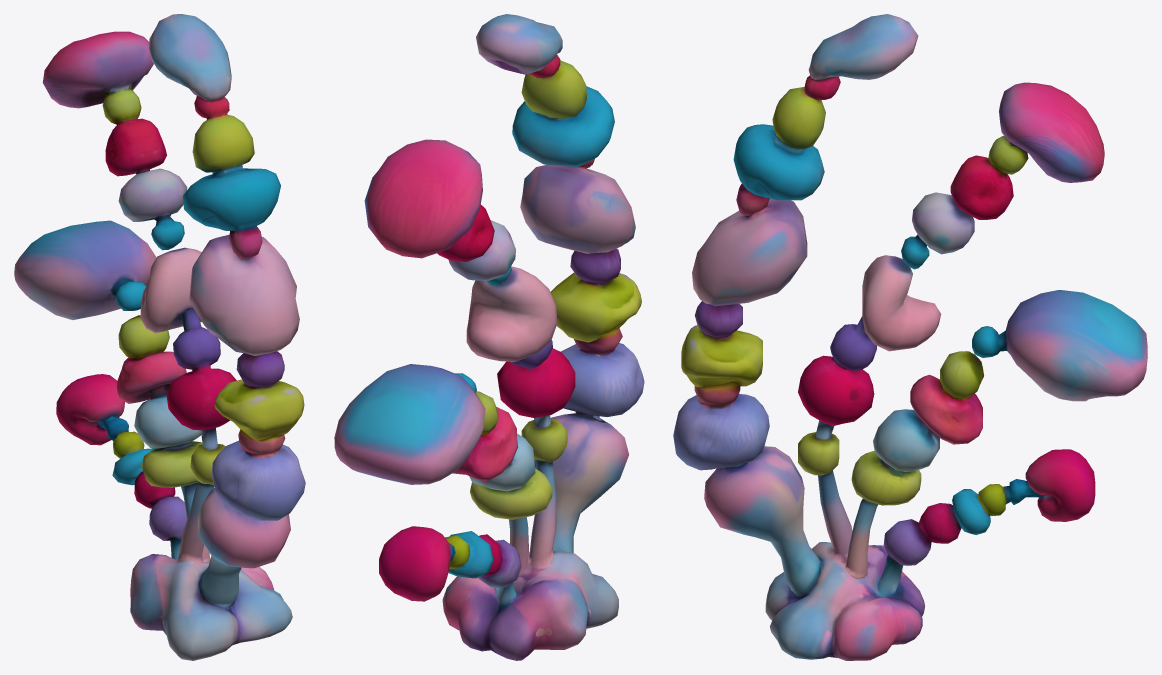
3 views of the same model, side by side, from view 1: azimuth 30°, elevation 25°; view 2: azimuth 150°, elevation 25°; view 3: azimuth 270°, elevation 25° (orthographic). The views are drawn at different scales.
Parts seen in each view (by area): view 1: tripo_node_8b7c48c8-2348-44ec-9e5e-e2fae5cd6821; view 2: tripo_node_8b7c48c8-2348-44ec-9e5e-e2fae5cd6821; view 3: tripo_node_8b7c48c8-2348-44ec-9e5e-e2fae5cd6821.
Part boxes in pixels (<box>): tripo_node_8b7c48c8-2348-44ec-9e5e-e2fae5cd6821: <box>14,14,305,660</box>; tripo_node_8b7c48c8-2348-44ec-9e5e-e2fae5cd6821: <box>334,14,644,660</box>; tripo_node_8b7c48c8-2348-44ec-9e5e-e2fae5cd6821: <box>673,14,1147,660</box>.
Size of the model in its own units: 0.229 by 0.9941 by 0.6928.
1 material, 1 textured.
